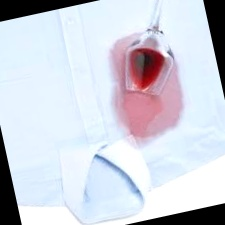wine: (116, 83, 190, 140), (103, 55, 127, 96), (104, 35, 141, 55)
